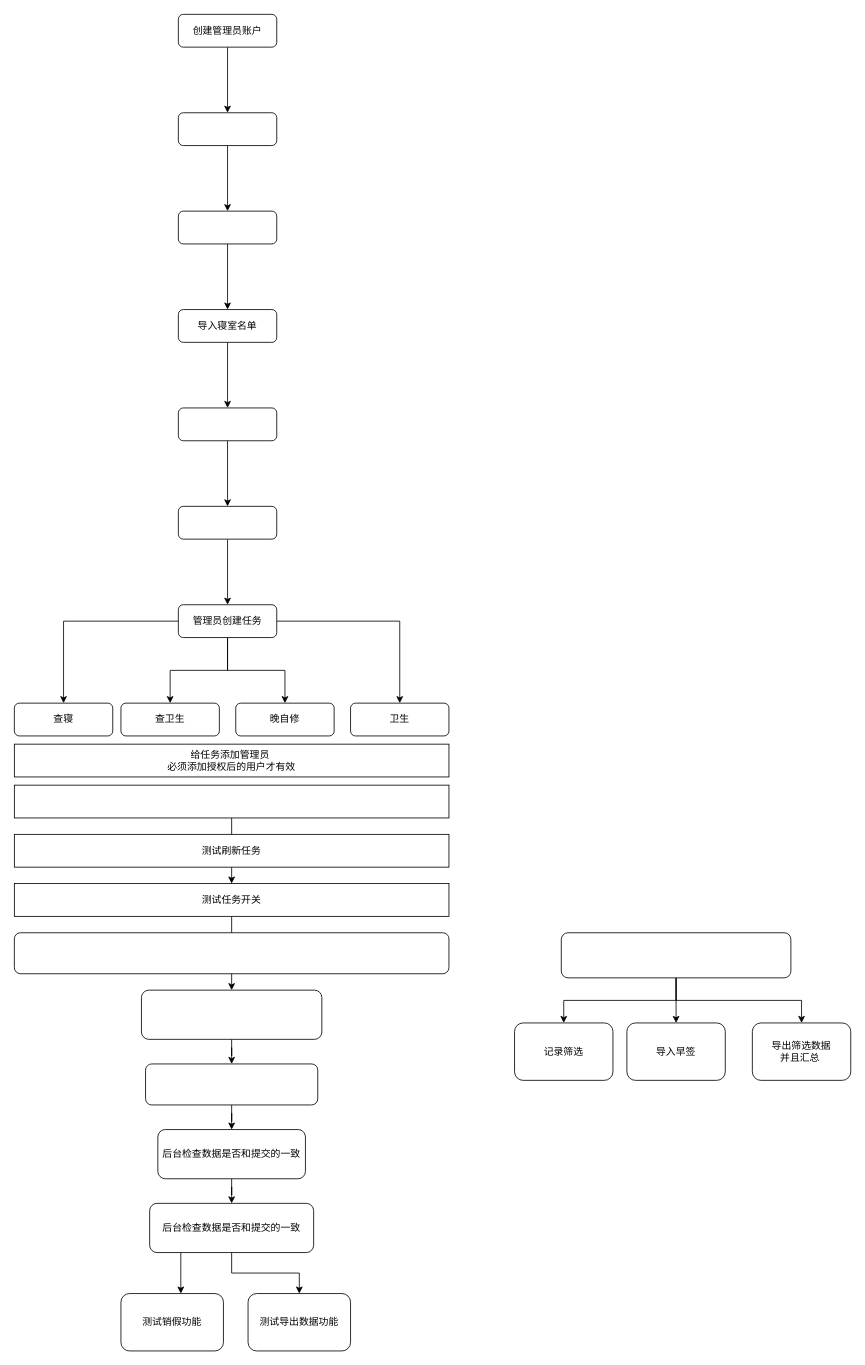
This 865x1365 diagram has some shape labels left out. The box of each missing label's shape, as (x1, y1, x2, y2) in pixels:
初始化系统: (178, 112, 277, 146)
导入学生名单: (178, 210, 277, 244)
权益部 管理员: (560, 932, 791, 978)
检查工作流程 执行工作流程: (145, 1063, 318, 1105)
测试排班功能: (14, 784, 449, 818)
用户授权: (178, 506, 277, 539)
登录前台 检查任务是否和所排任务一致: (141, 989, 322, 1039)
编写用户分组/权限: (178, 407, 277, 441)
进行排班: (14, 932, 449, 974)
